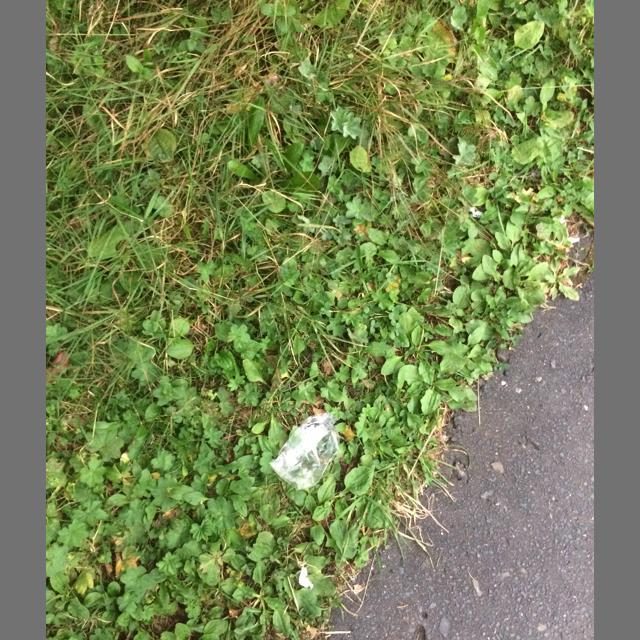litter: (269, 410, 340, 490)
